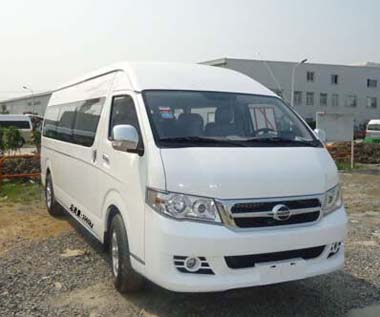midcar: (39, 61, 350, 290)
